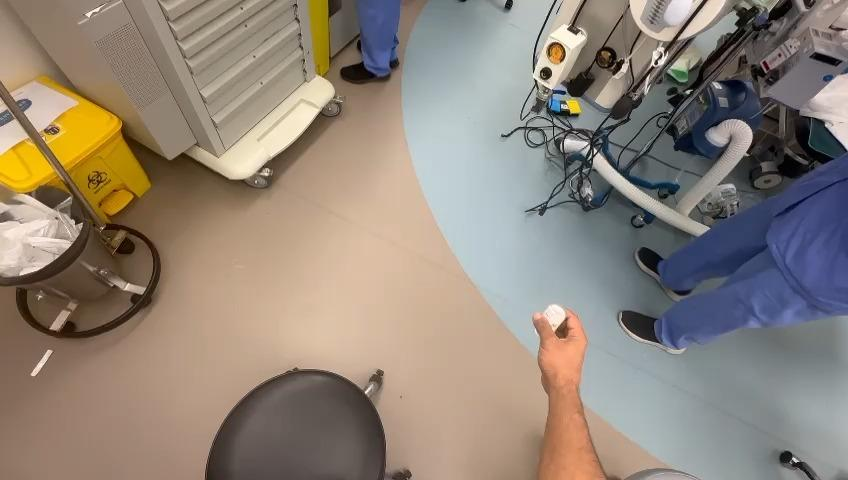augmentin: (543, 305, 566, 330)
